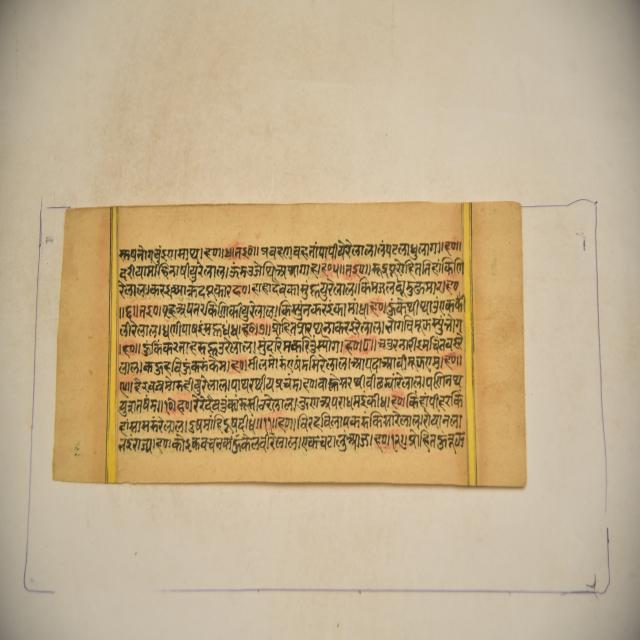text_paragraph: (49, 201, 525, 485)
